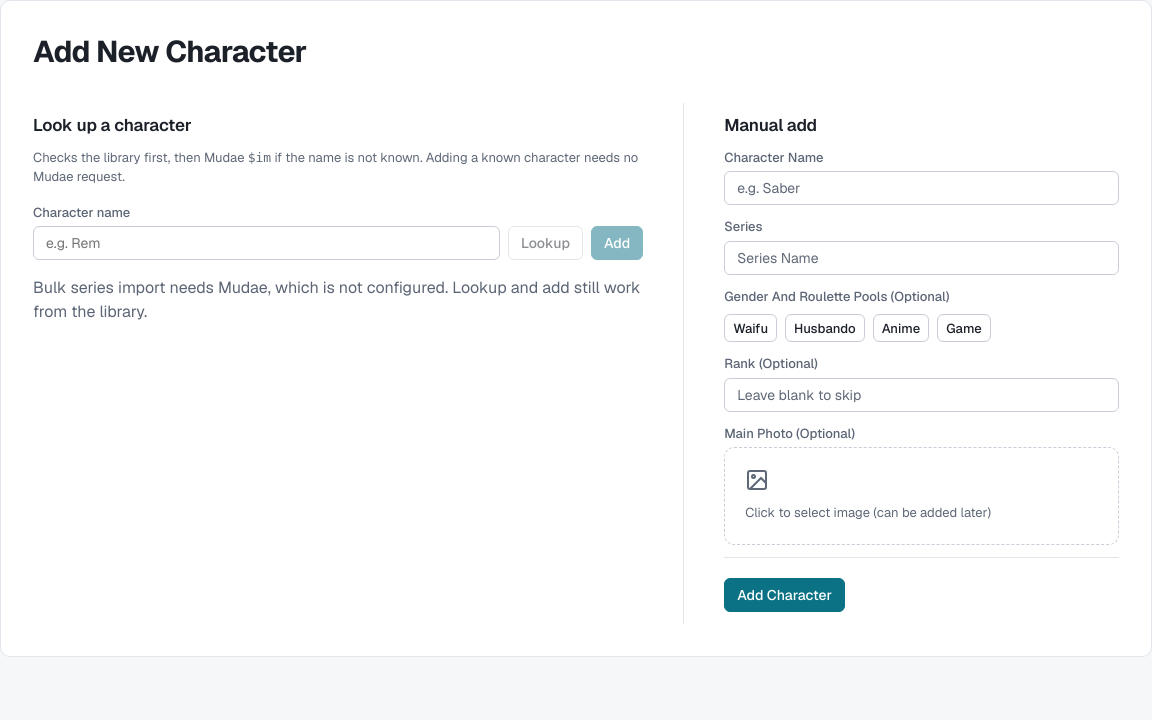
it: AddPage catalog integration › looks a name up in the library without touching Mudae
Type "Rem" into the dropdown labelled "Character name" at (267, 243), box [33,226,500,260]
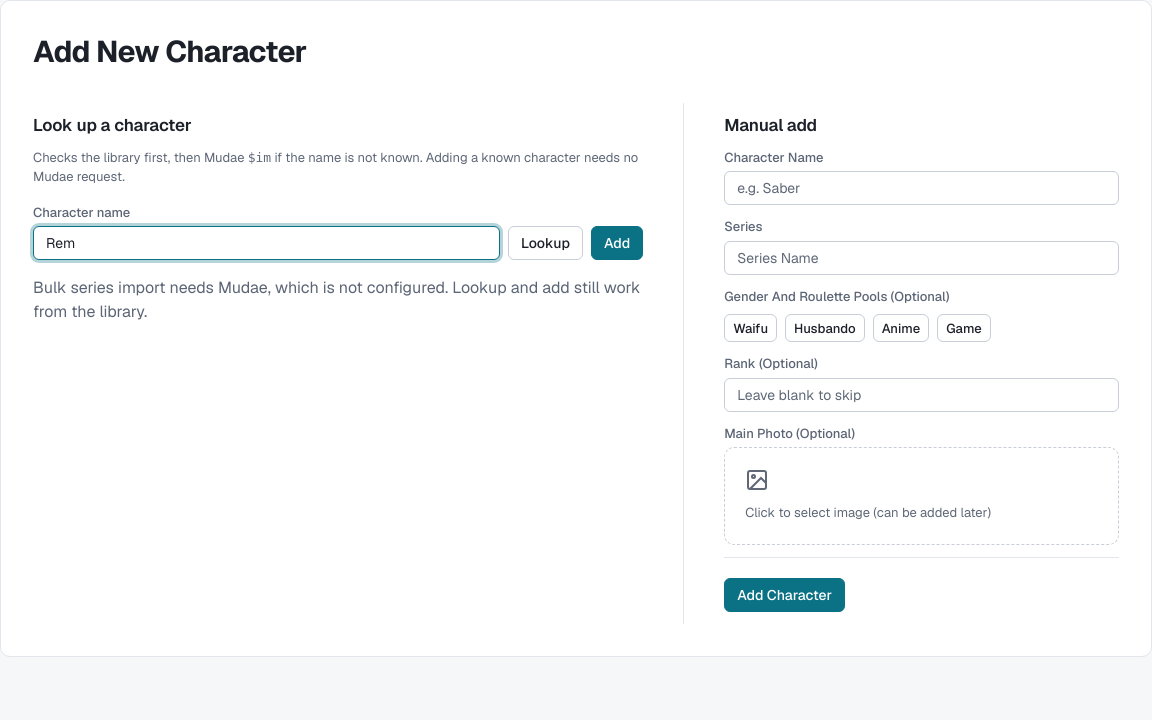
Click the button "Lookup" at (546, 243), box [508,226,583,260]
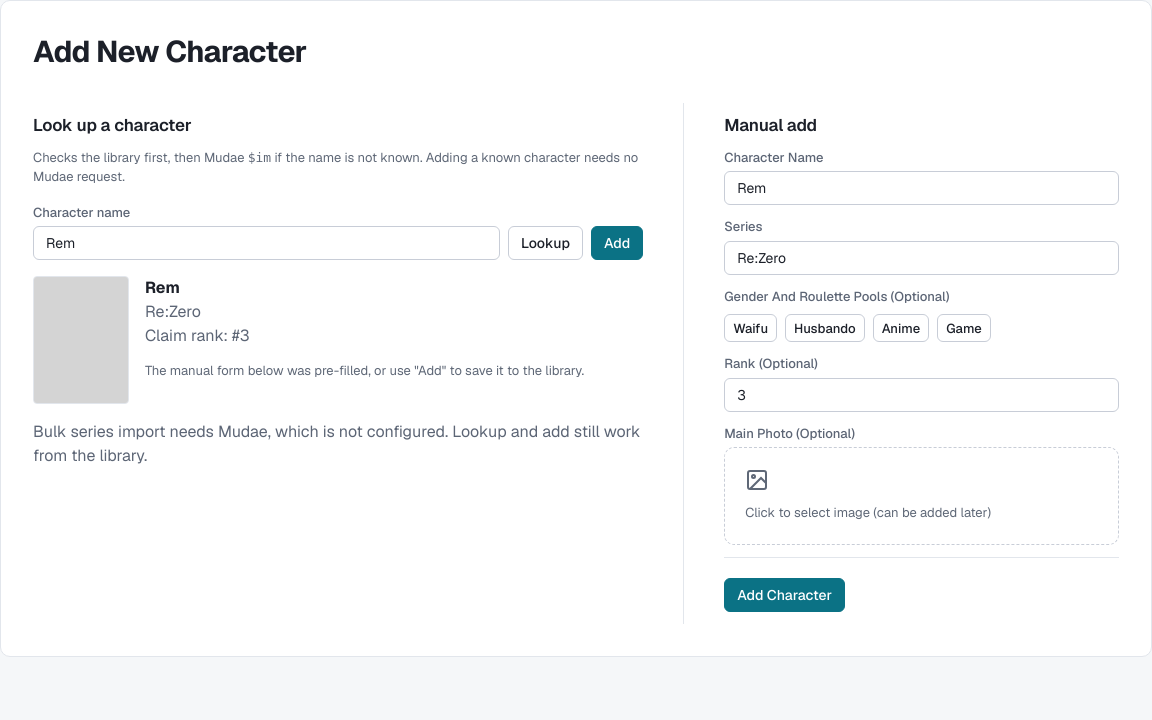
Result: the dropdown labelled "Character Name" holds "Rem" at [724,171,1119,205]
Result: the dropdown labelled "Series" holds "Re:Zero" at [724,241,1119,275]
